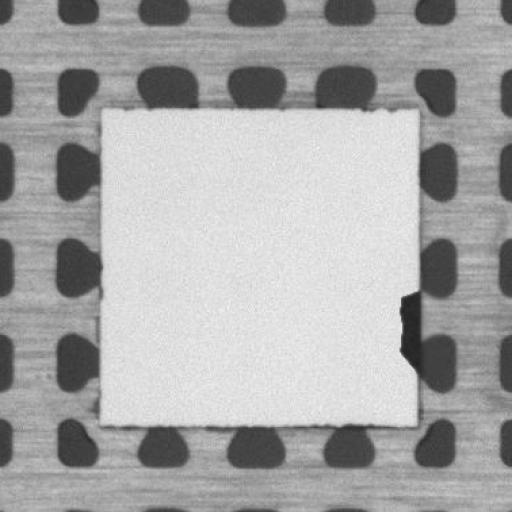DIE_BROKEN: (394, 284, 423, 370)
